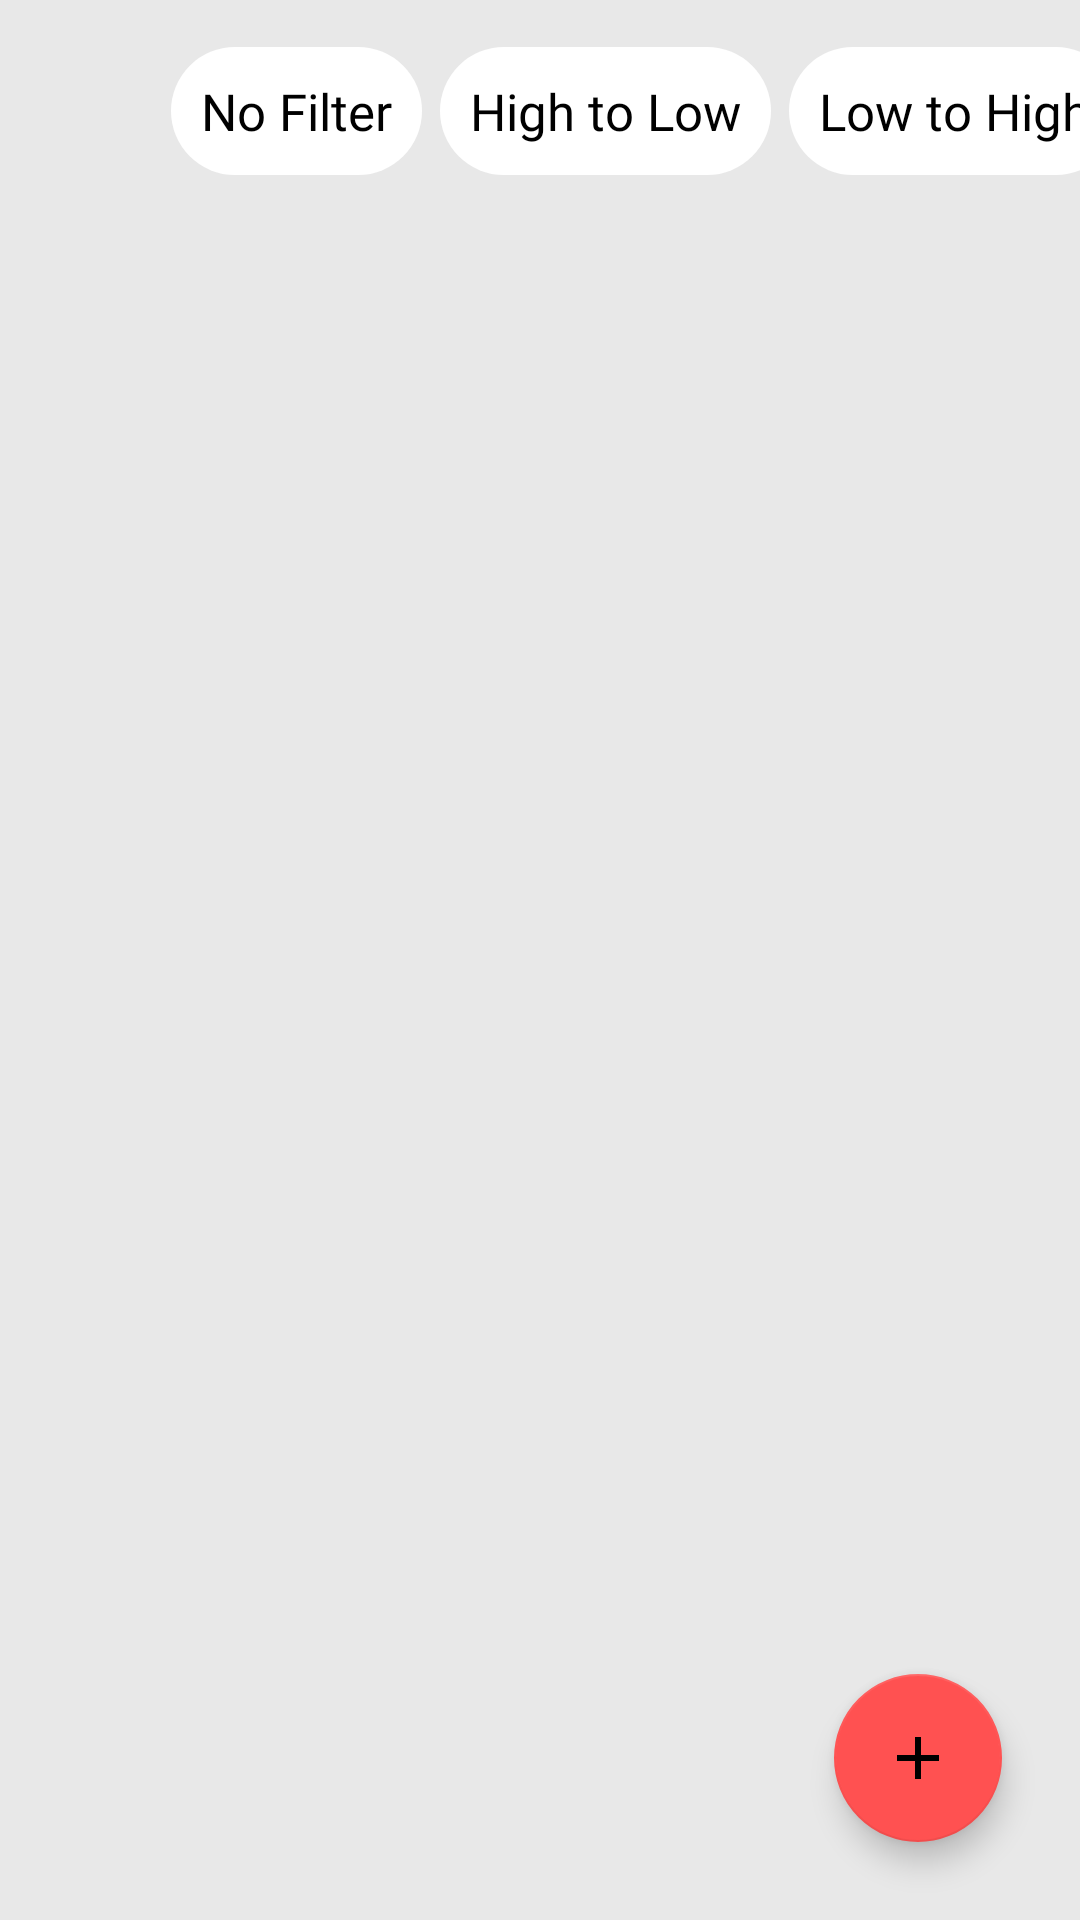

Icon click points for this 1080px x 1920px phone screenshot, format (x=x, y=y):
add: (x=918, y=1758)
